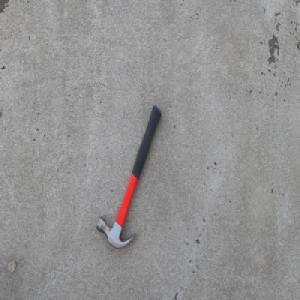Hammer: (95, 103, 162, 250)
